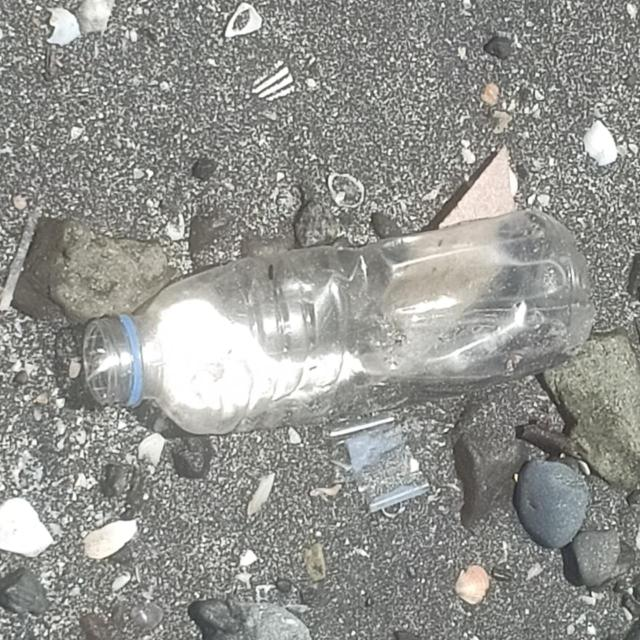plastic_waste: (80, 212, 598, 443)
